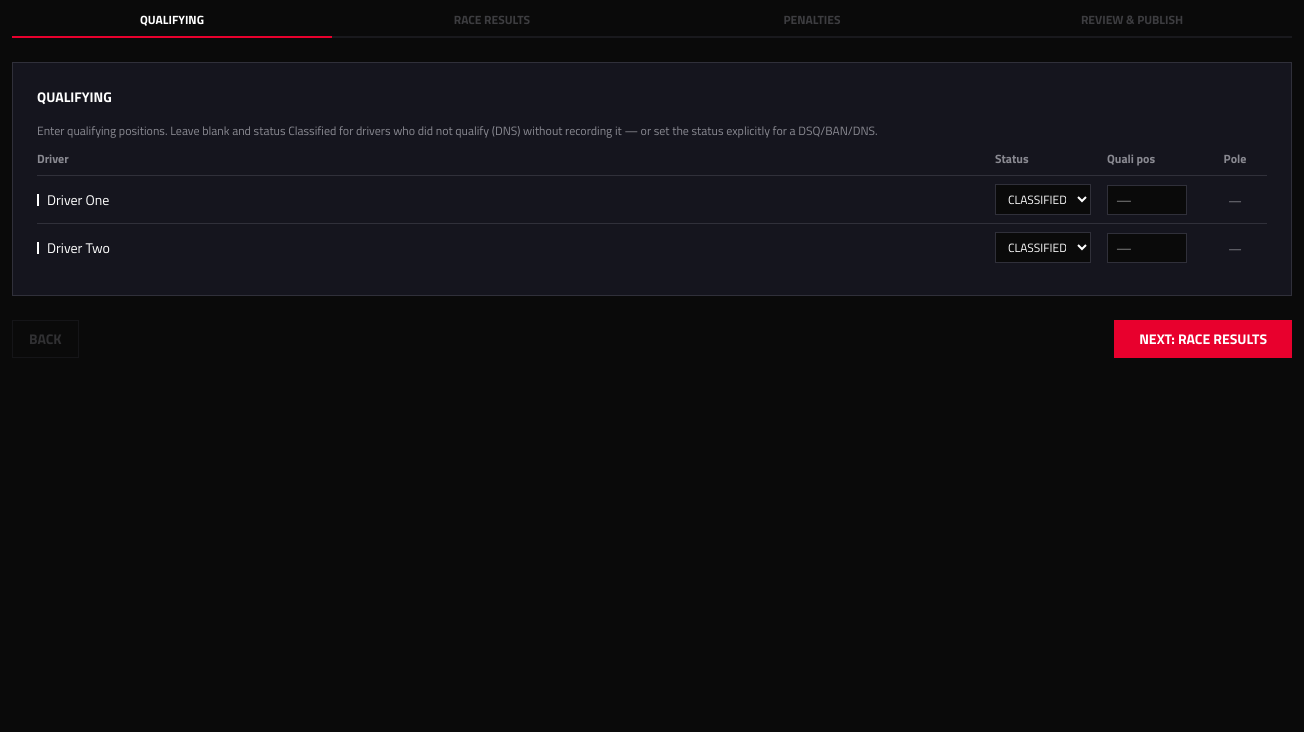
Test: ResultStepper inline result validation (M2) › highlights offending rows inline when duplicate positions are typed, without blocking navigation
The width and height of the screenshot is (1304, 732).
Click the button "Next: Race Results" at (1203, 339), box [1114,320,1292,358]
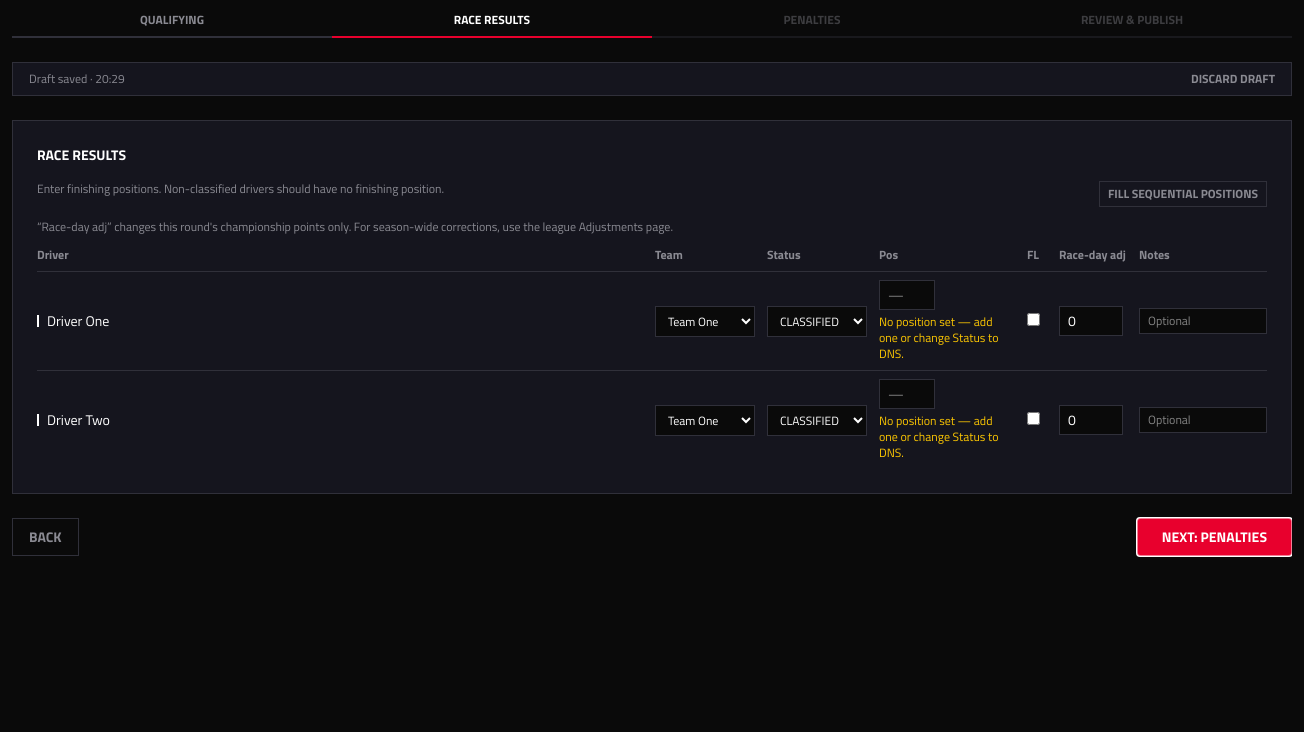
Type "1" into the 1st number field with placeholder "—" at (907, 295), box [879,280,935,310]
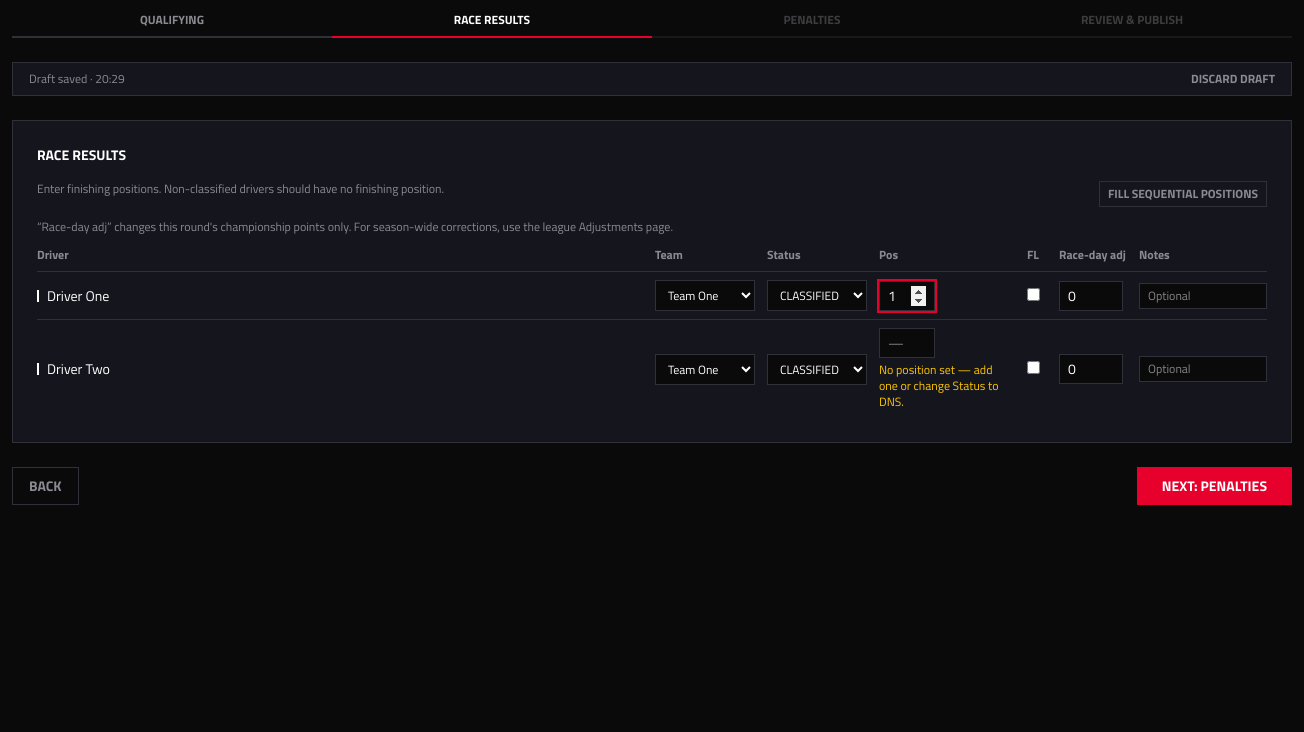
Type "1" into the number field with placeholder "—" at (907, 343), box [879,328,935,358]
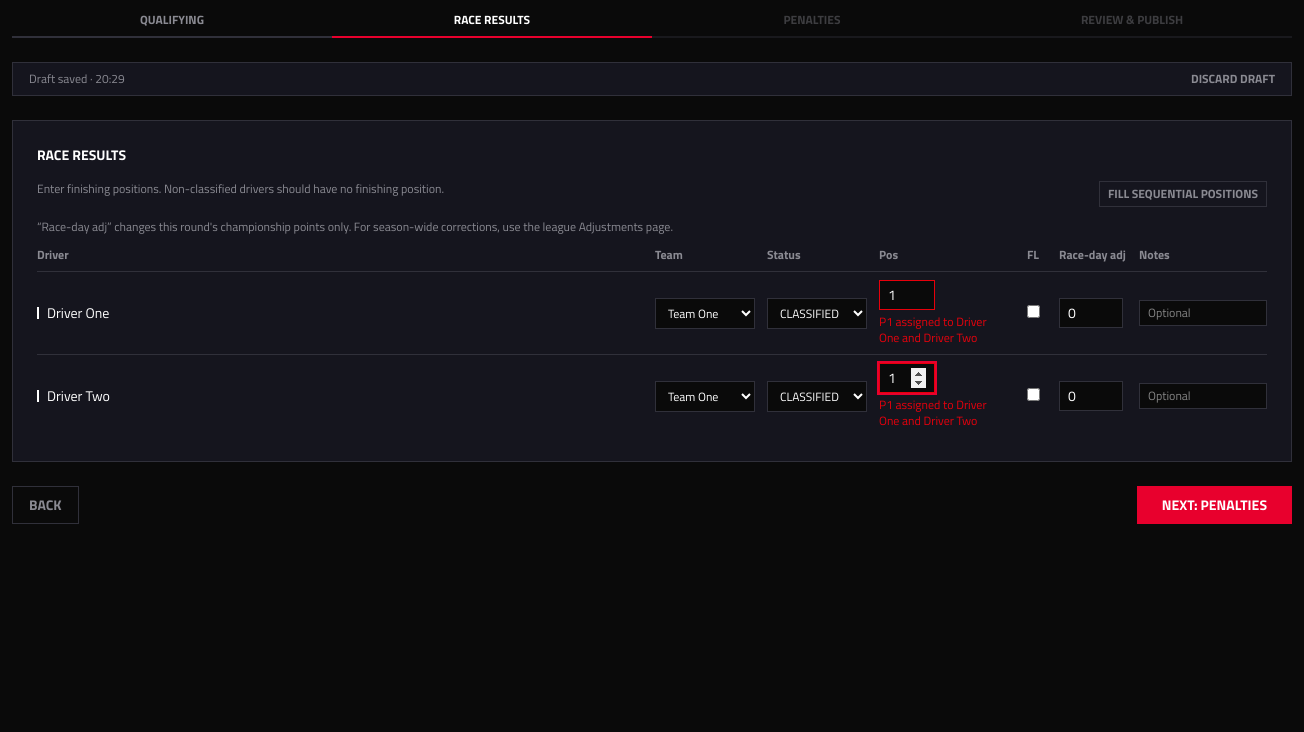
Check: the button "Next: Penalties" is enabled, box [1137,486,1292,524]
Check: the text "P1 assigned to Driver One and Driver Two" is shown 2 times, box [879,312,987,347]; [879,395,987,430]
